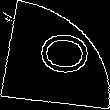O_W: (23, 29, 87, 81)
